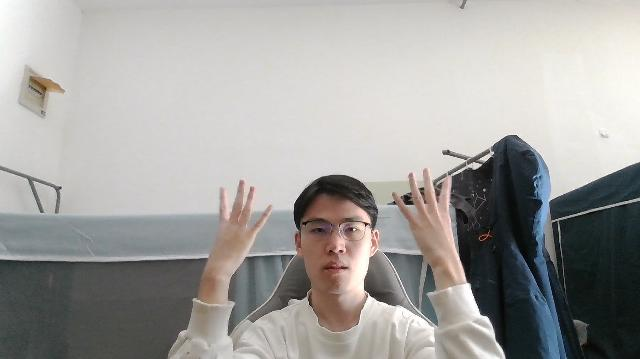four: (392, 168, 457, 264), (211, 180, 271, 272)
